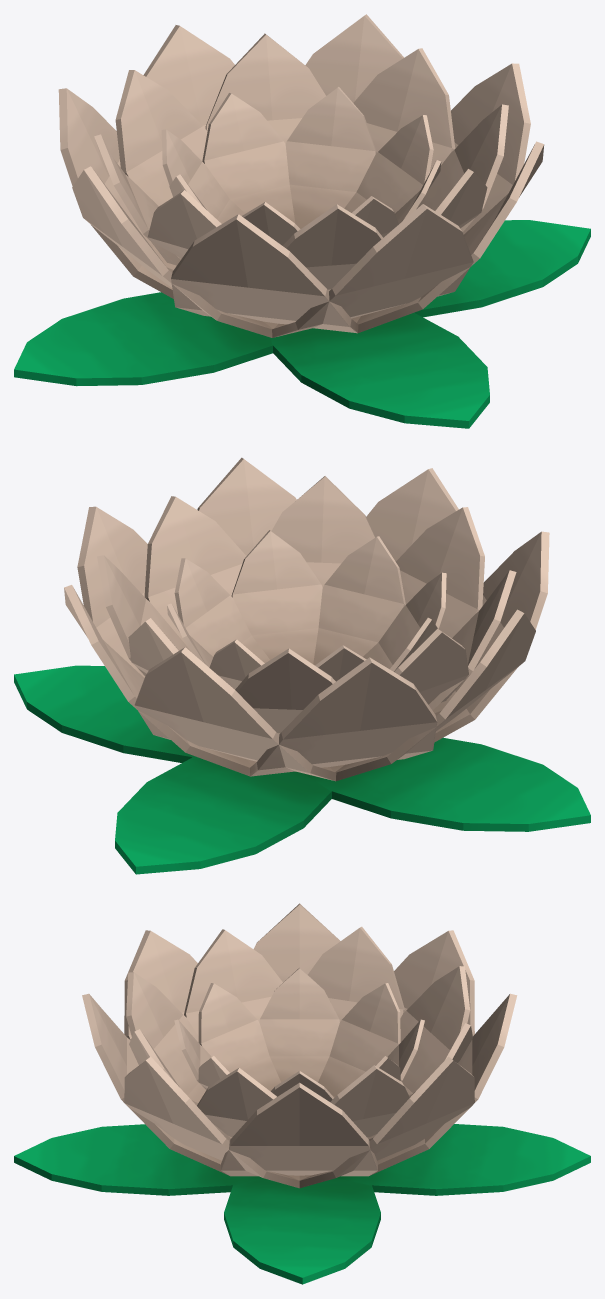
File: lotus_full_texture.FBX
The picture shows the model from 3 angles, top to bottom: view 1: azimuth 30°, elevation 25°; view 2: azimuth 150°, elevation 25°; view 3: azimuth 270°, elevation 25°; orthographic projection. The views are drawn at different scales.
Parts seen in each view (by area): view 1: Lotus Full; view 2: Lotus Full; view 3: Lotus Full.
Part boxes in pixels (bbox=[...]): Lotus Full: bbox=[14, 14, 590, 428]; Lotus Full: bbox=[14, 457, 590, 874]; Lotus Full: bbox=[14, 903, 590, 1284].
Size of the model in its own units: 0.1723 by 0.0553 by 0.1723.
